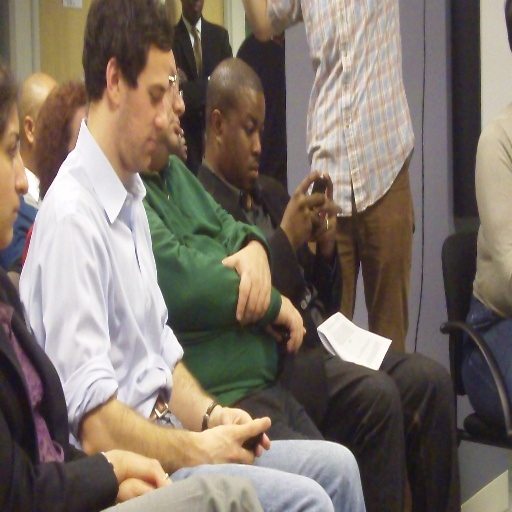hand: (226, 227, 279, 330), (280, 168, 326, 251), (199, 415, 272, 464), (207, 405, 272, 460), (114, 449, 172, 486), (313, 169, 337, 256), (272, 291, 305, 352), (114, 476, 156, 503)
